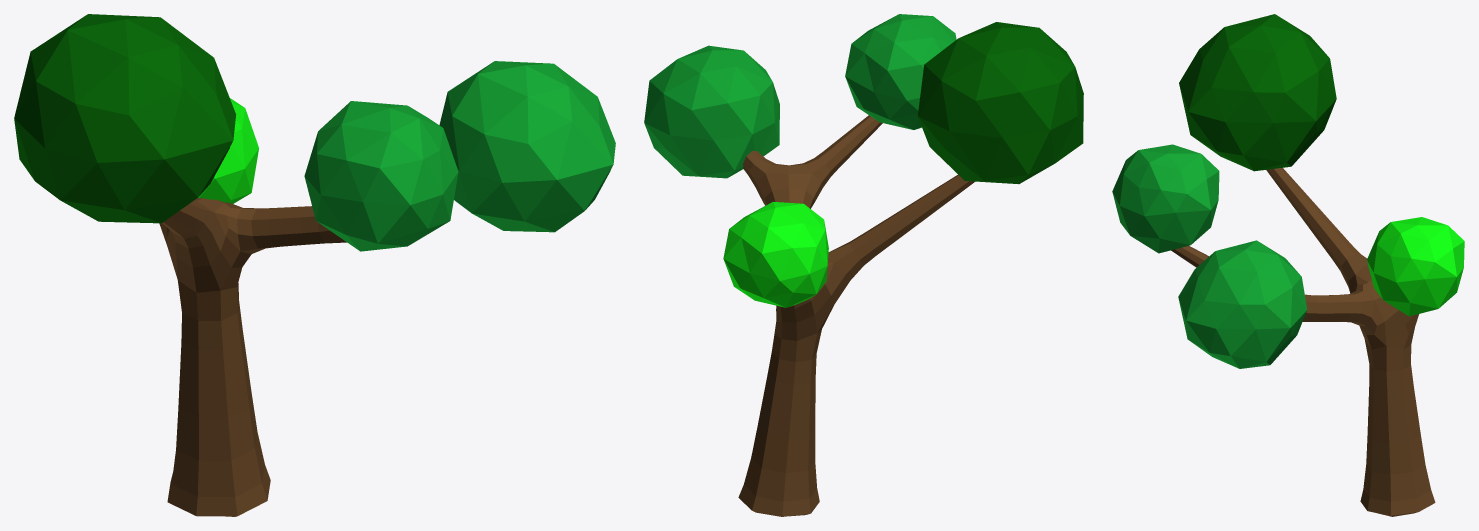
Rendered from Park1_T2.glb.
The picture shows the model from 3 angles, left to right: view 1: azimuth 30°, elevation 25°; view 2: azimuth 150°, elevation 25°; view 3: azimuth 270°, elevation 25°; orthographic projection. The views are drawn at different scales.
Visible parts, largest first — view 1: Park1-T2; view 2: Park1-T2; view 3: Park1-T2.
Boxes of the visible parts, x1,y1,x2,y2 form: Park1-T2: (14,14,615,516); Park1-T2: (644,14,1083,516); Park1-T2: (1112,14,1464,516).
Size of the model in its own units: 33.71 by 34.88 by 26.69.
